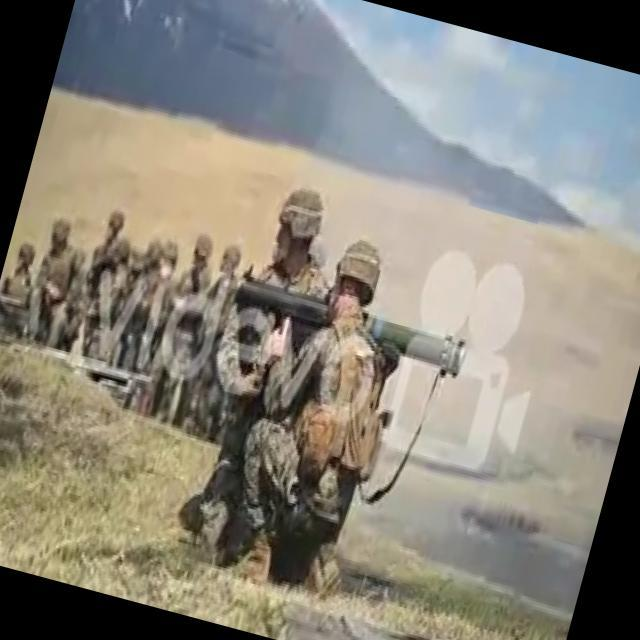rocket: (228, 270, 471, 378)
